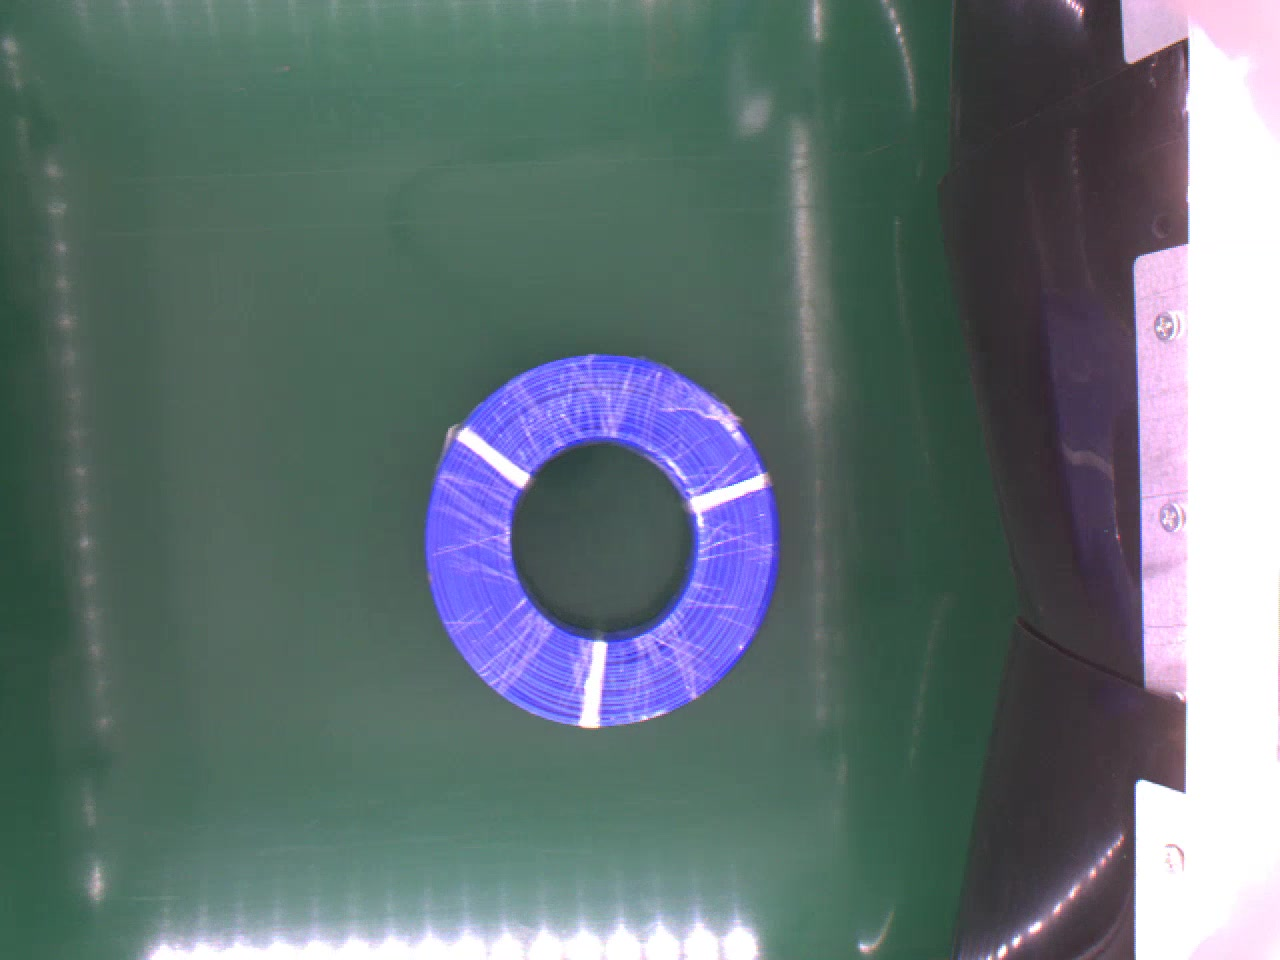blue: (423, 346, 782, 730)
